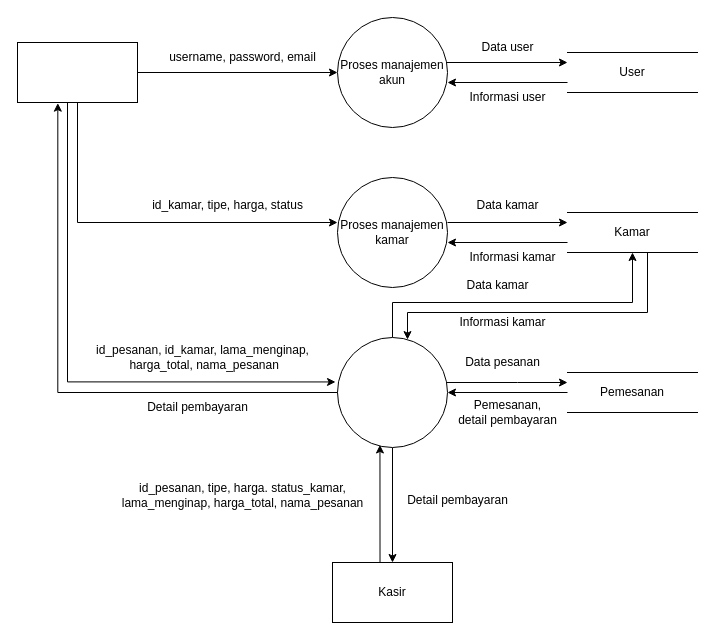
The diagram is 715 pixels wide and 640 high, and some of its shapes have lost their labels. Here are the shapes that lost their labels. From the top down, the centre of each, then its label:
point (77, 72): Admin
point (392, 392): Proses pemesanan
